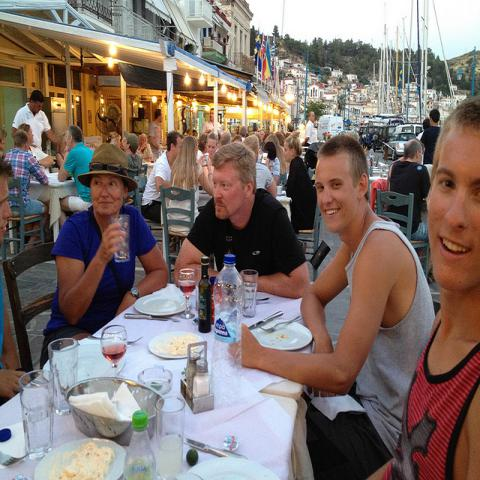car: (382, 132, 426, 161), (318, 114, 344, 144), (371, 125, 397, 152), (361, 124, 379, 152), (394, 124, 423, 137), (358, 126, 364, 144)
